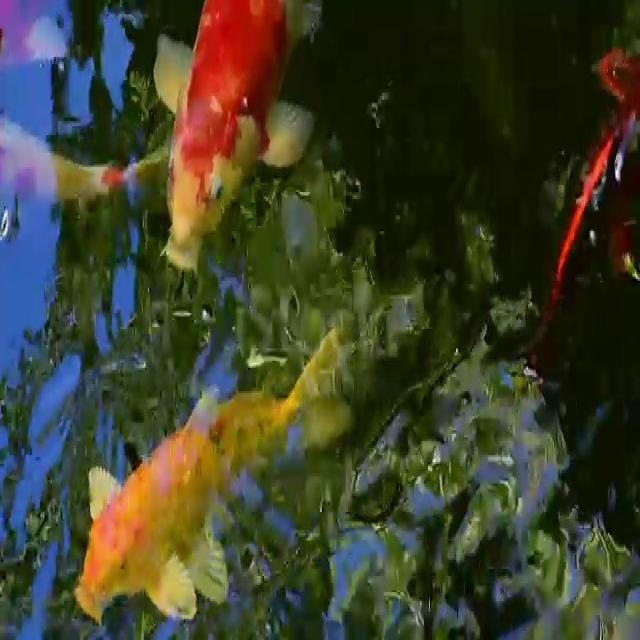fish: (67, 321, 369, 628), (148, 0, 318, 280)
